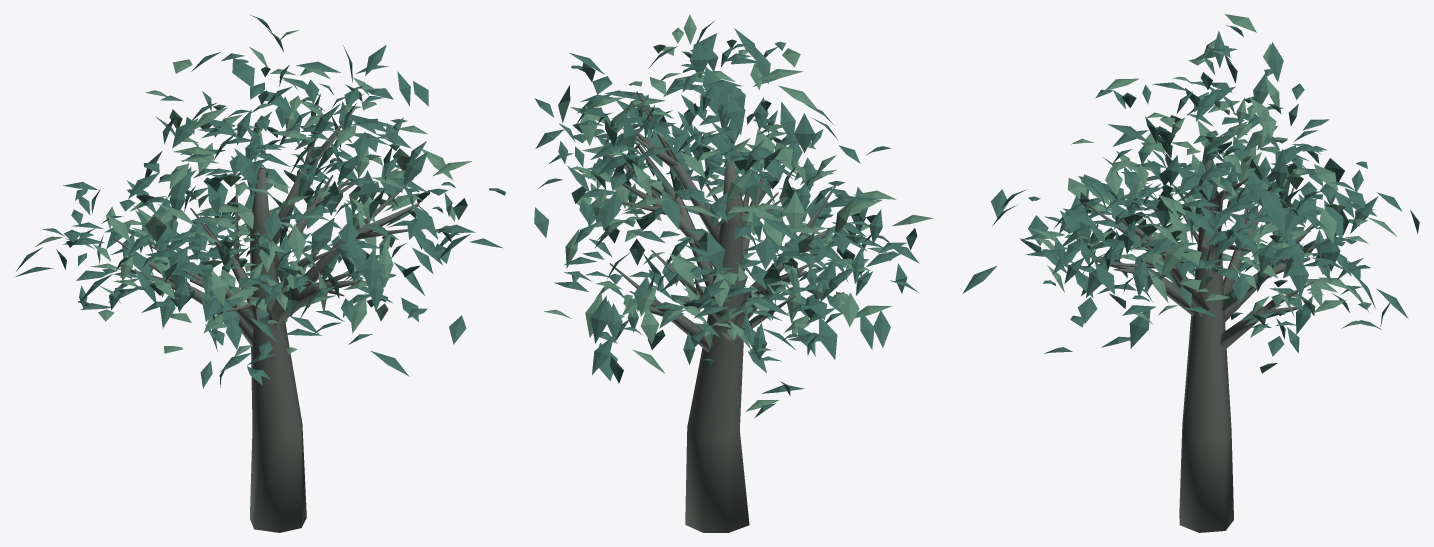
File: slim_lod.glb
3 views of the same model, side by side, from view 1: azimuth 30°, elevation 25°; view 2: azimuth 150°, elevation 25°; view 3: azimuth 270°, elevation 25° (orthographic). The views are drawn at different scales.
Parts seen in each view (by area): view 1: Moonwater slim leaves, Moonwater slim branches; view 2: Moonwater slim leaves, Moonwater slim branches; view 3: Moonwater slim leaves, Moonwater slim branches.
Part boxes in pixels (<box>): Moonwater slim leaves: <box>15,14,505,388</box>; Moonwater slim branches: <box>113,107,424,532</box>; Moonwater slim leaves: <box>534,14,933,418</box>; Moonwater slim branches: <box>607,91,862,532</box>; Moonwater slim leaves: <box>962,14,1419,373</box>; Moonwater slim branches: <box>1084,159,1343,532</box>.
Bounding box in the file's own units: 5.14 × 6.12 × 5.2.
